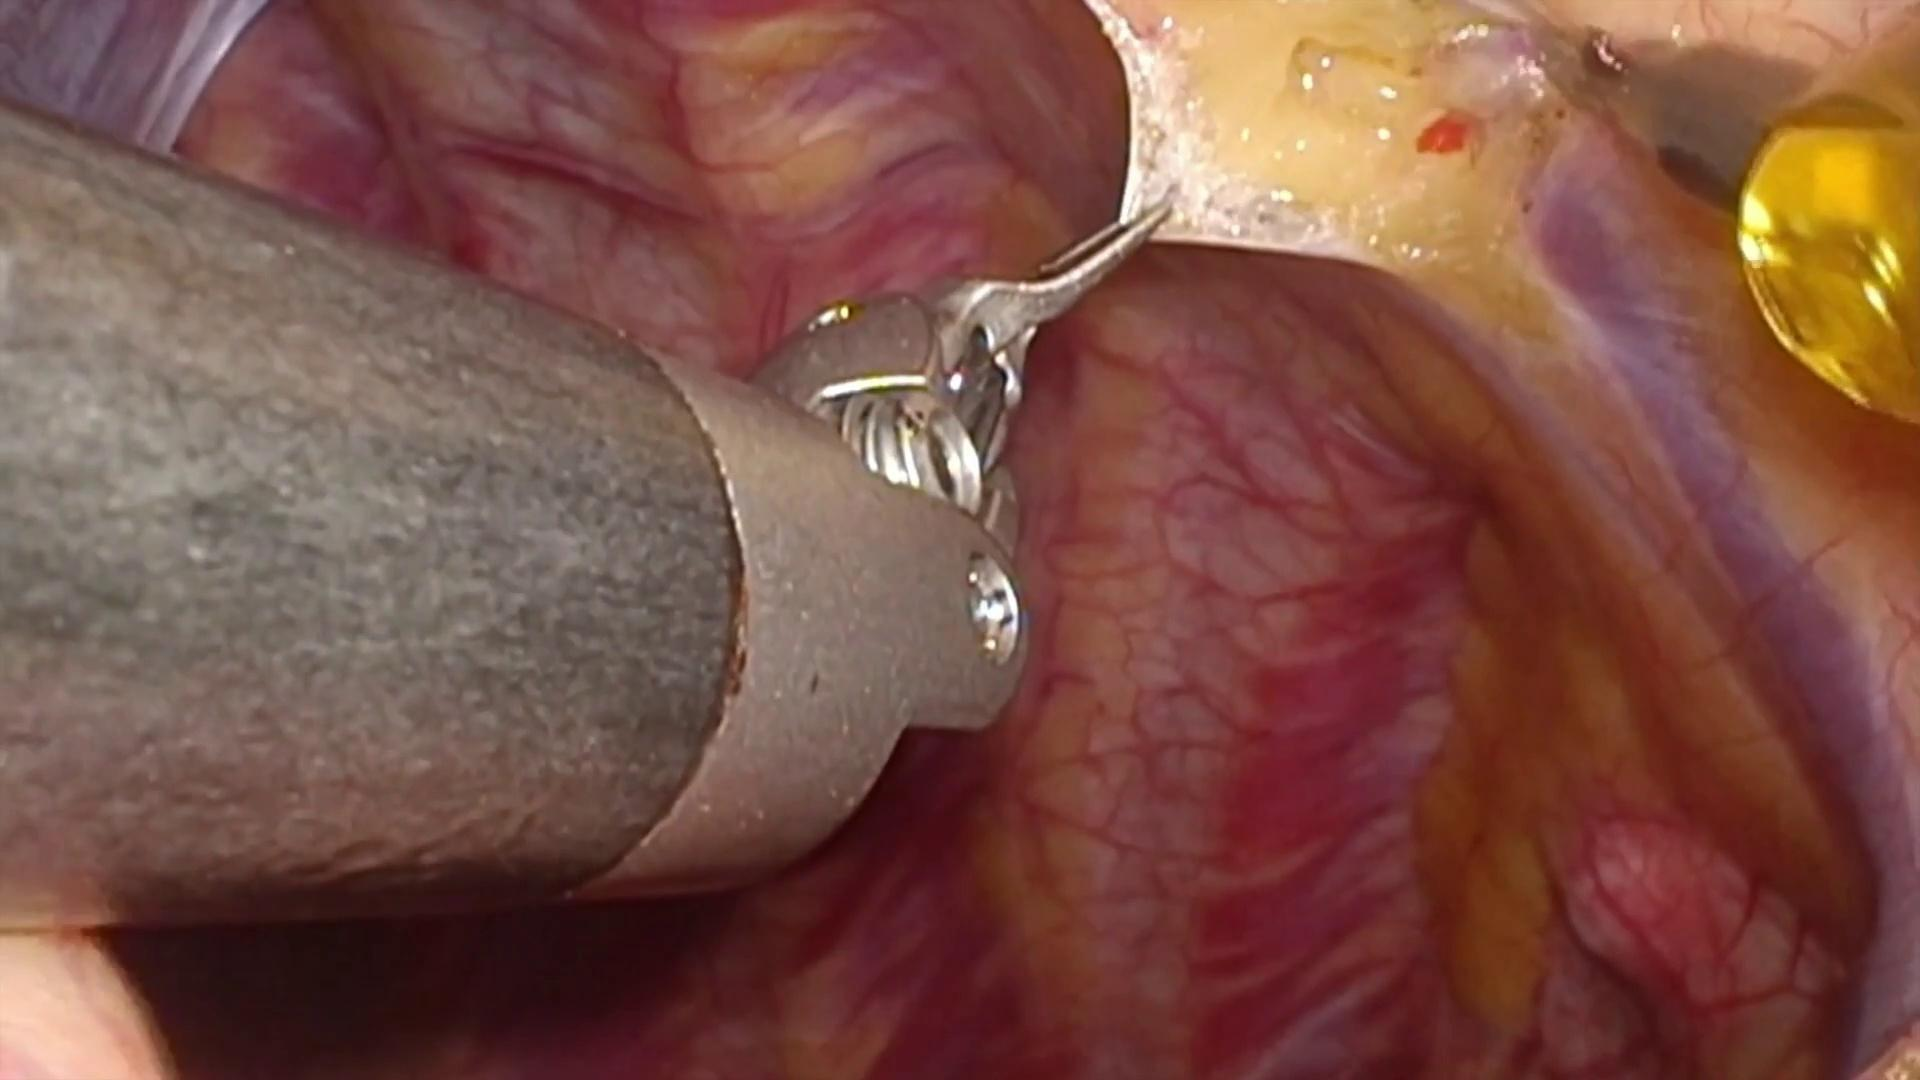Cautery_Spatula: (1528, 16, 1822, 203)
Debakey: (924, 185, 1184, 430)
